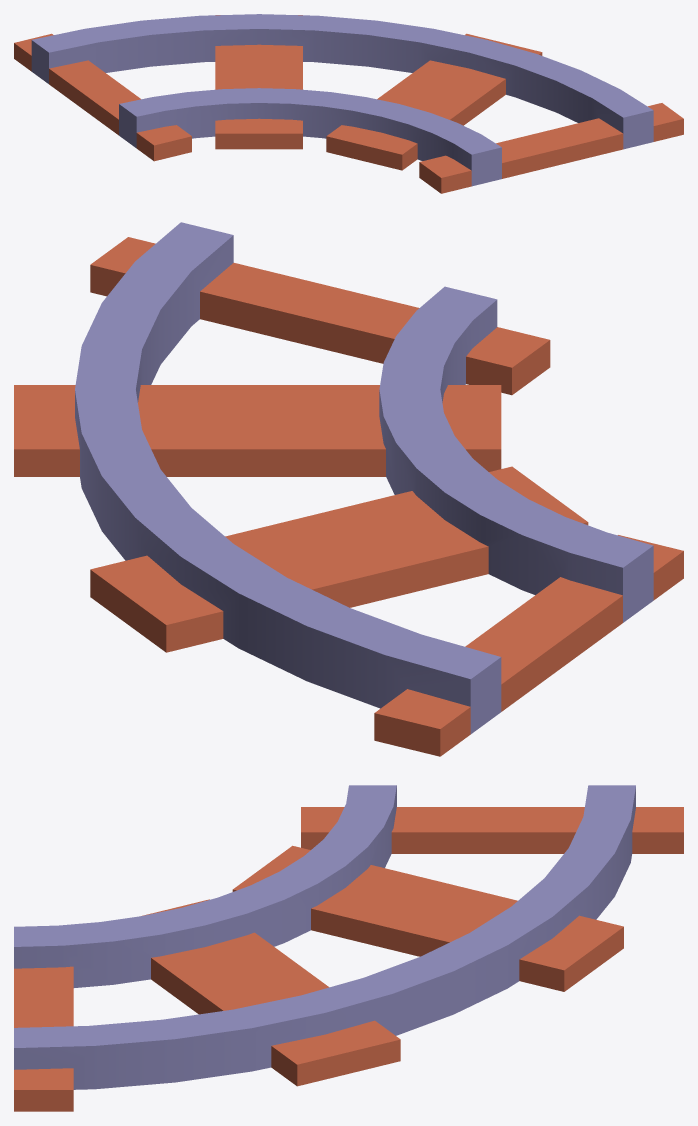
The model's file is curved_train_tracks.fbx.
The picture shows the model from 3 angles, top to bottom: view 1: azimuth 30°, elevation 25°; view 2: azimuth 150°, elevation 25°; view 3: azimuth 270°, elevation 25°; orthographic projection. The views are drawn at different scales.
Visible parts, largest first — view 1: mergedBlocks; view 2: mergedBlocks; view 3: mergedBlocks.
Boxes of the visible parts, <box> form: mergedBlocks: <box>14,14,683,193</box>; mergedBlocks: <box>14,222,683,756</box>; mergedBlocks: <box>14,785,683,1111</box>.
Bounding box in the file's own units: 7 × 0.5 × 7.
